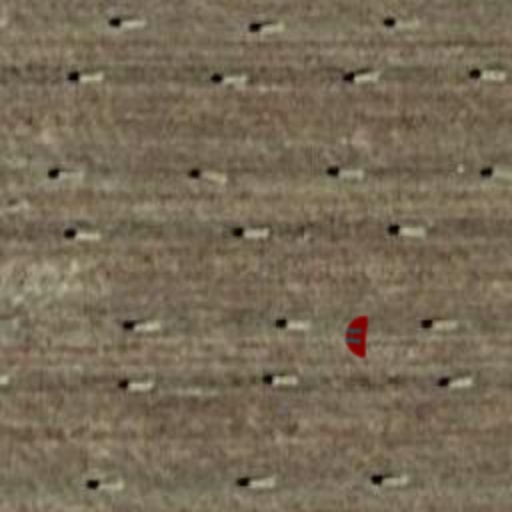semicircle: (332, 312, 380, 360)
